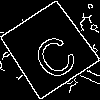C: (24, 24, 81, 84)
